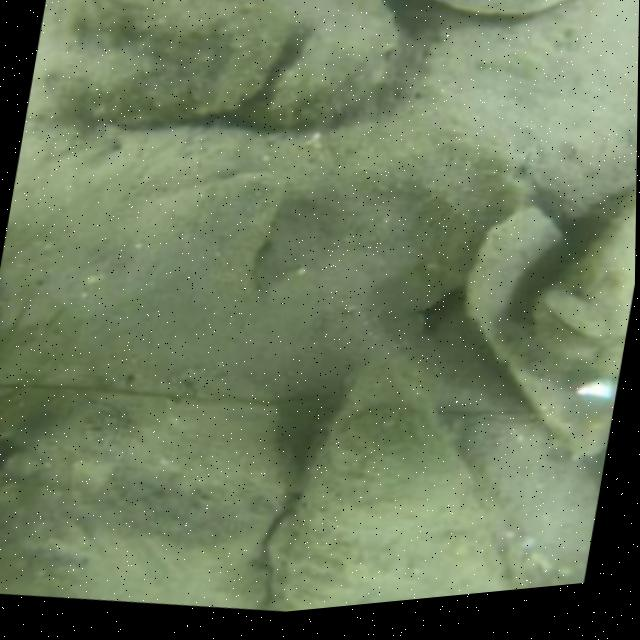Oyster-Closed: (270, 384, 502, 612), (434, 0, 573, 17)
Oyster-Indeterminate: (0, 389, 294, 600), (468, 208, 617, 459), (314, 142, 519, 313), (48, 0, 289, 124), (139, 171, 282, 287), (269, 0, 395, 129), (539, 184, 636, 346)
